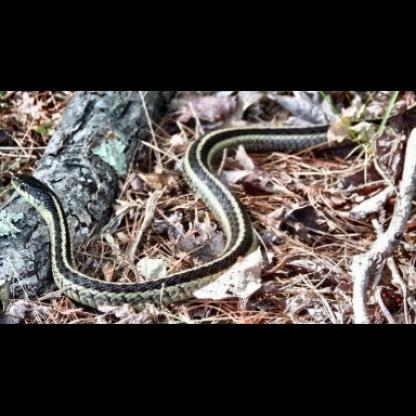Snake: (7, 121, 349, 307)
